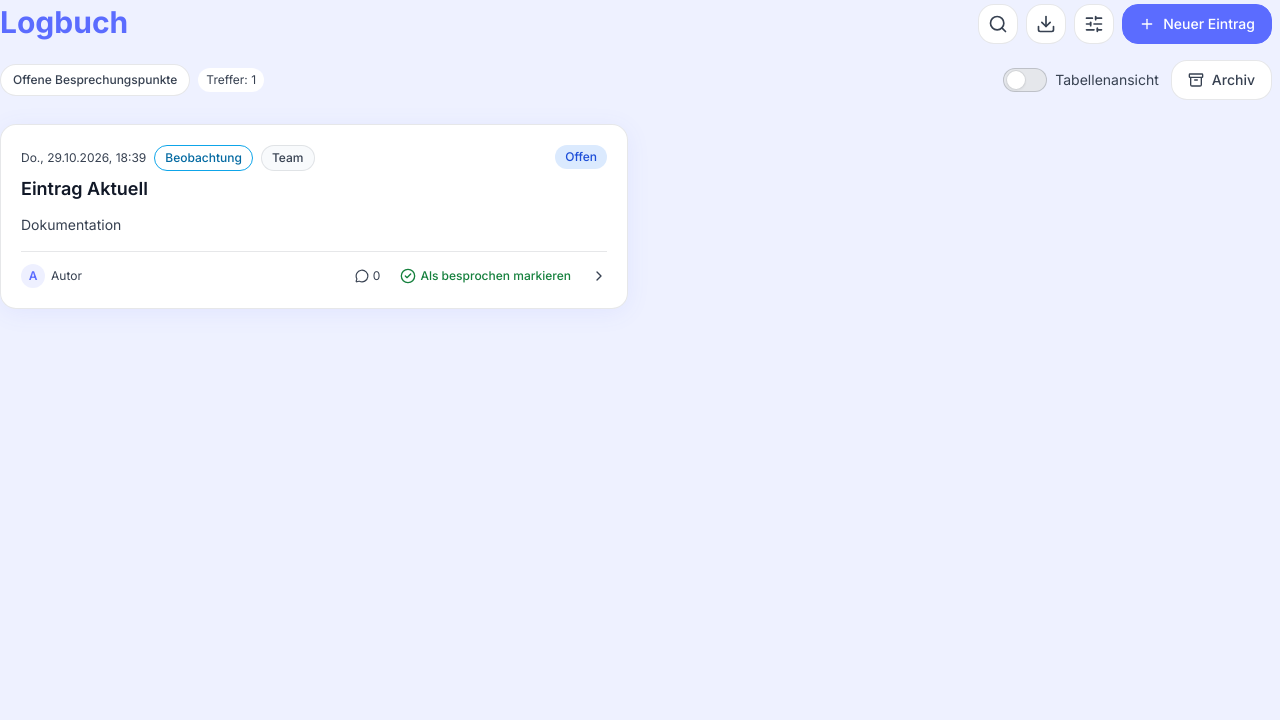
it: Logbook archive navigation › keeps the return button available for an empty archive search and clears it on return
Click the button "Archiv".
click(1221, 80)  # box [1171,60,1272,100]
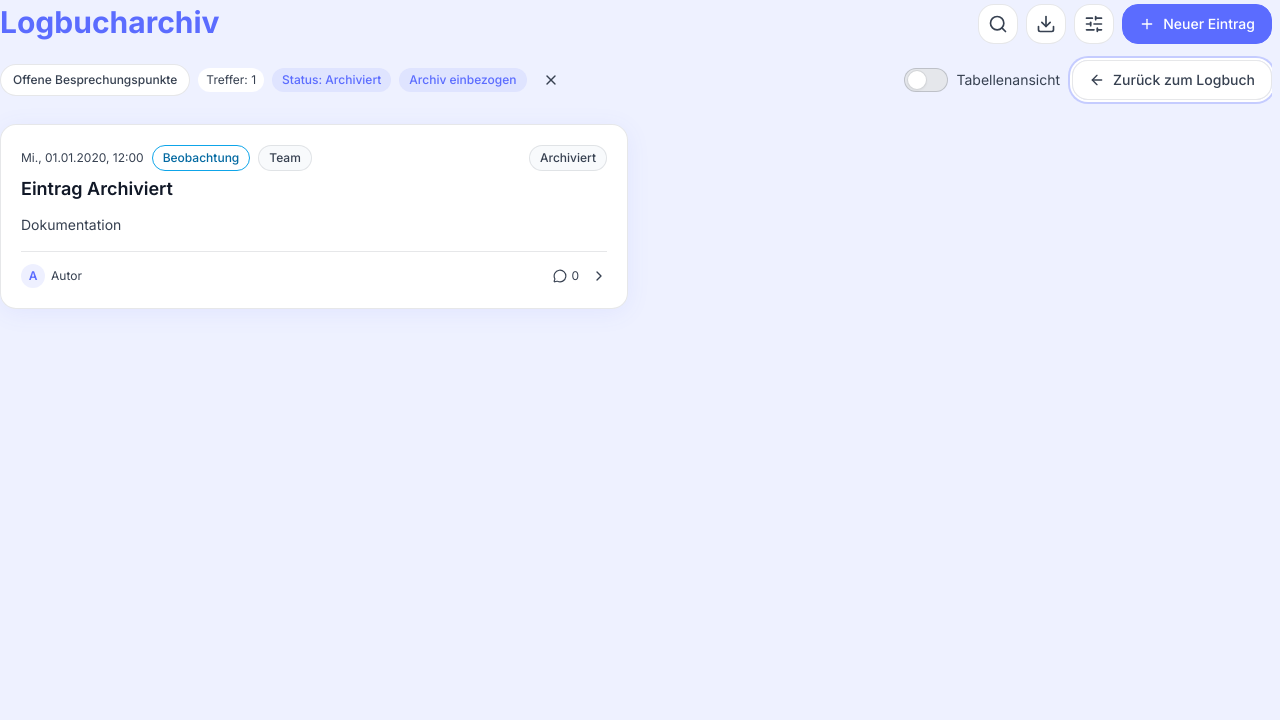
Result: the heading "Eintrag Archiviert" is shown at [21,178,173,199]
Click the button named "Suche öffnen".
click(998, 24)  # box [978,4,1018,44]
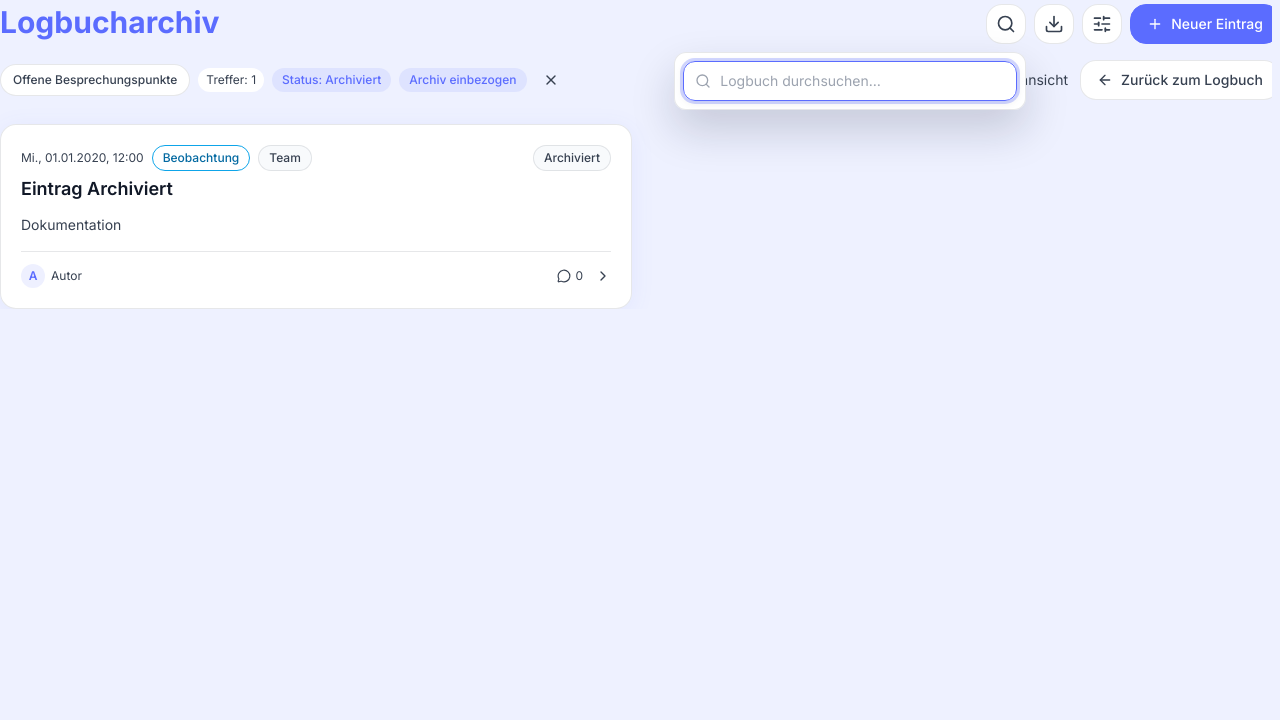
Type "Kein Treffer" into the search field.
click(850, 81); type("Kein Treffer")  # box [683,61,1017,101]
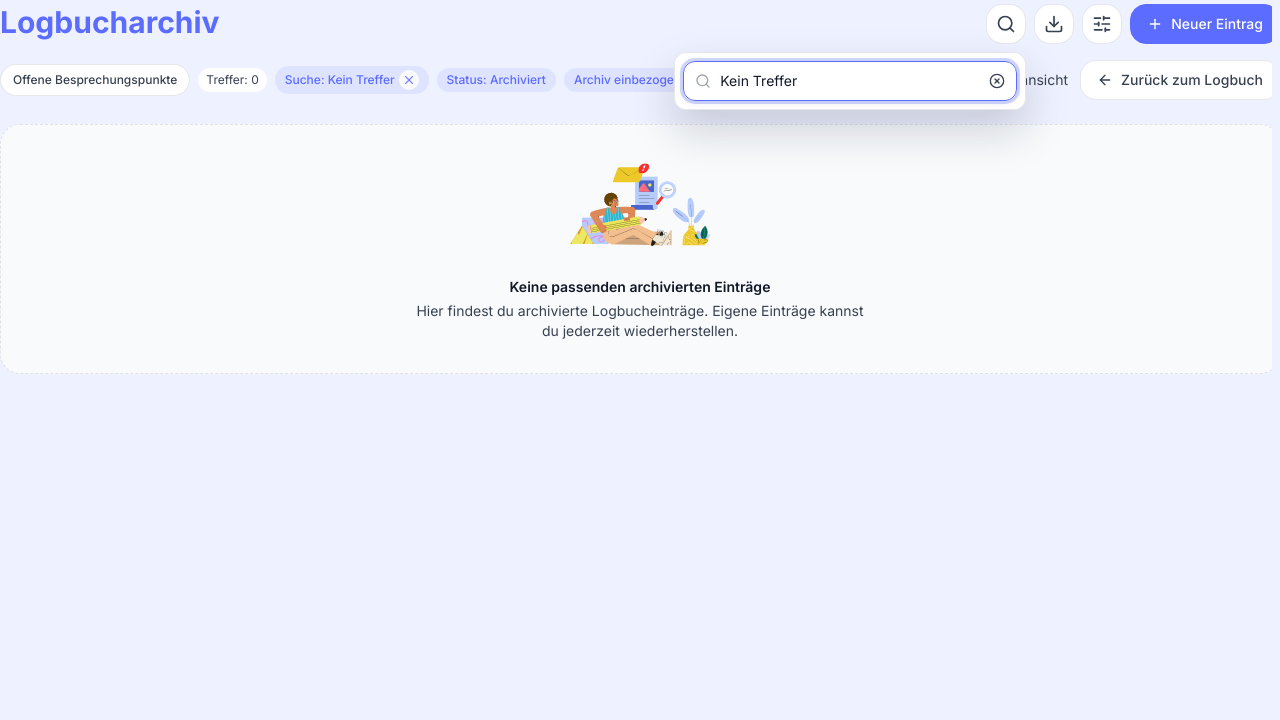
Result: the heading "Keine passenden archivierten Einträge" is shown at [510,278,770,295]
Click the button "Zurück zum Logbuch".
click(1180, 80)  # box [1080,60,1279,100]
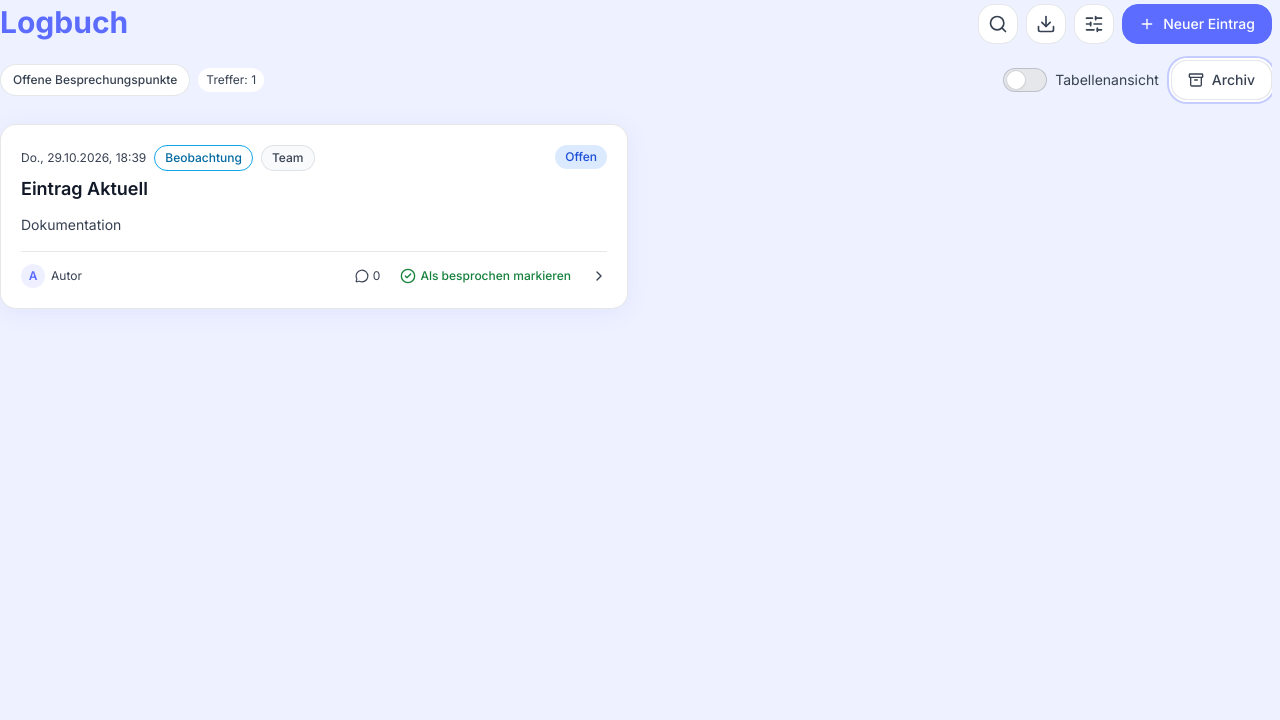
Expected: the heading "Logbuch" is shown, [0,4,128,40]
Result: the heading "Eintrag Aktuell" is shown at [21,178,148,199]
